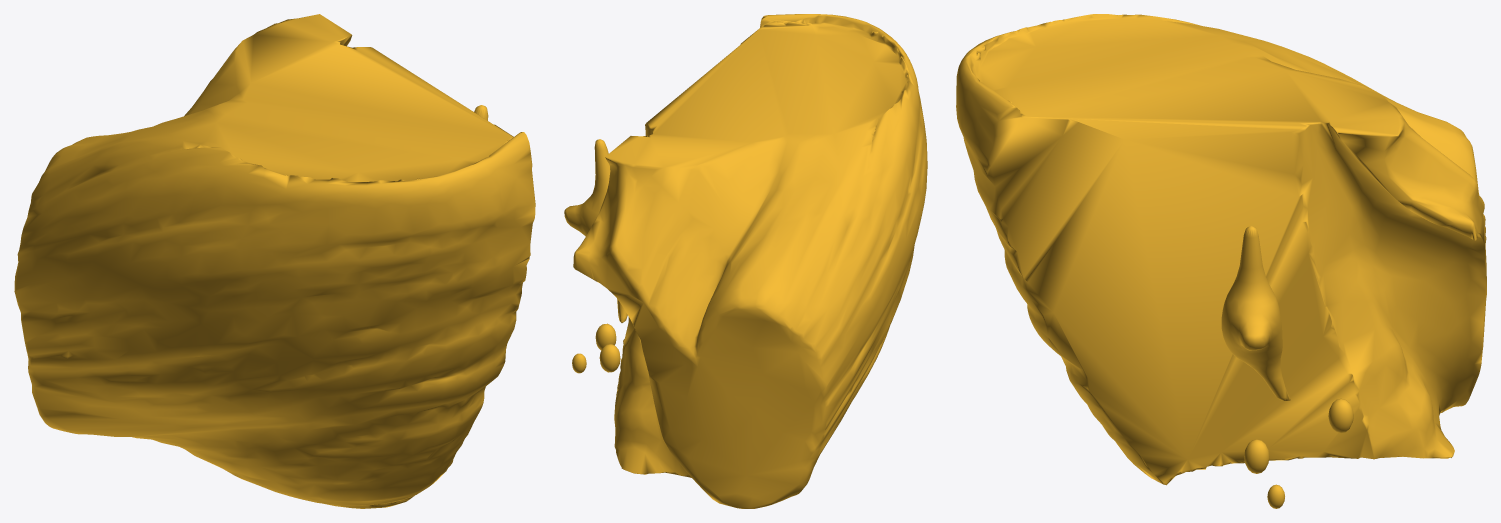
Rendered from nervoso-pons-r.glb.
3 views of the same model, side by side, from view 1: azimuth 30°, elevation 25°; view 2: azimuth 150°, elevation 25°; view 3: azimuth 270°, elevation 25° (orthographic). The views are drawn at different scales.
Parts seen in each view (by area): view 1: Pons.r; view 2: Pons.r, Vestibular nuclei.l, Nucleus of abducens nerve.l, Motor nucleus of facial nerve.l; view 3: Pons.r, Vestibular nuclei.l, Nucleus of abducens nerve.l, Motor nucleus of facial nerve.l.
Boxes of the visible parts, x1,y1,x2,y2 form: Pons.r: (14,14,535,508); Pons.r: (573,14,927,508); Vestibular nuclei.l: (564,139,627,322); Nucleus of abducens nerve.l: (599,344,620,372); Motor nucleus of facial nerve.l: (595,323,616,350); Pons.r: (956,14,1486,485); Vestibular nuclei.l: (1221,226,1290,400); Nucleus of abducens nerve.l: (1328,398,1353,433); Motor nucleus of facial nerve.l: (1244,439,1269,473).
Bounding box in the file's own units: 0.0291 × 0.0278 × 0.0334.
